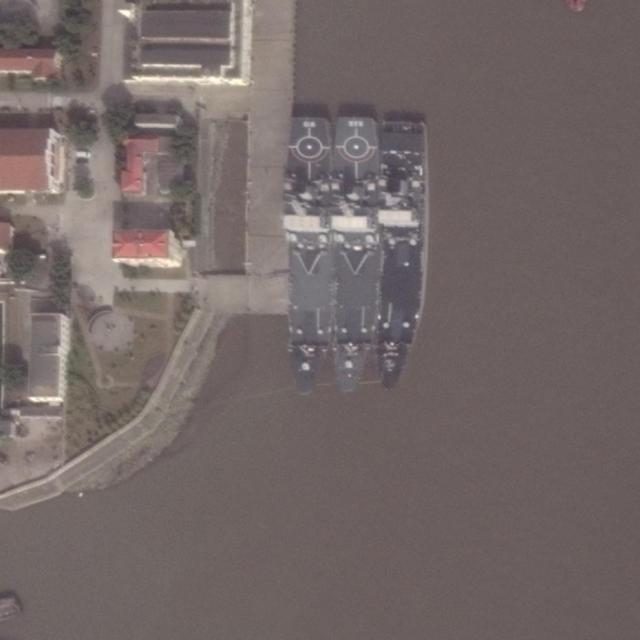Landing: (370, 118, 428, 392), (326, 118, 380, 393), (285, 115, 329, 397)
